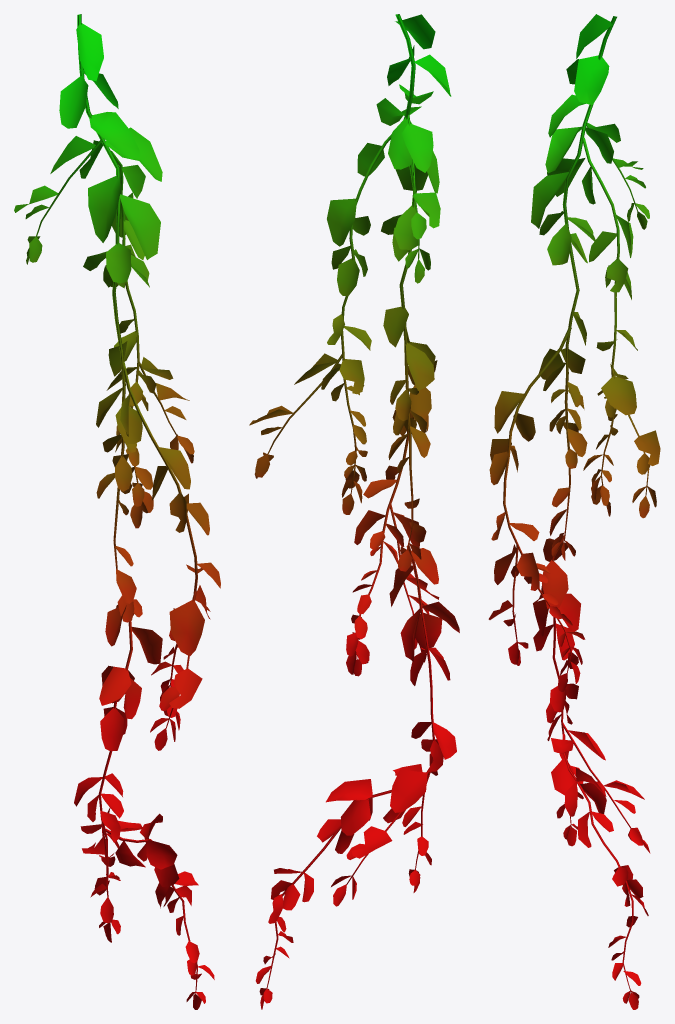
Rendered from Var9_LOD2.fbx.
3 views of the same model, side by side, from view 1: azimuth 30°, elevation 25°; view 2: azimuth 150°, elevation 25°; view 3: azimuth 270°, elevation 25° (orthographic). The views are drawn at different scales.
Visible parts, largest first — view 1: _t4sd_Var9_LOD2; view 2: _t4sd_Var9_LOD2; view 3: _t4sd_Var9_LOD2.
Part boxes in pixels (x1,y1,x2,y2): _t4sd_Var9_LOD2: (14,14,220,1009); _t4sd_Var9_LOD2: (249,14,459,1009); _t4sd_Var9_LOD2: (488,14,660,1009).
Bounding box in the file's own units: 29.1 × 152 × 25.34.
